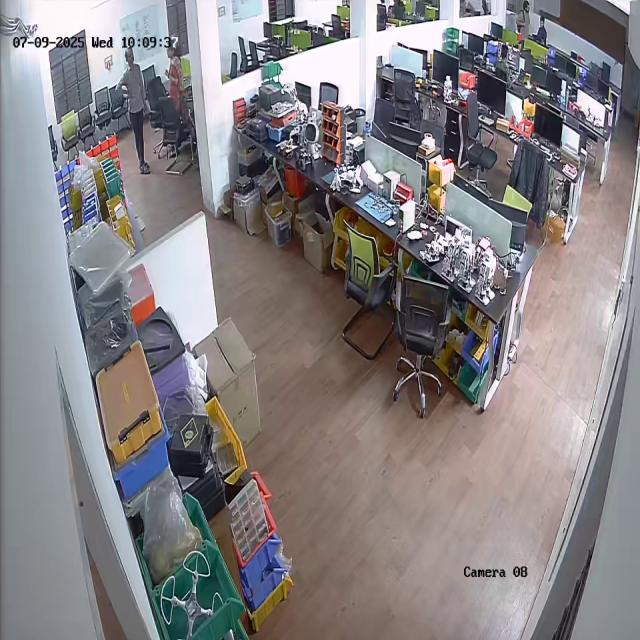person: (119, 47, 150, 176)
